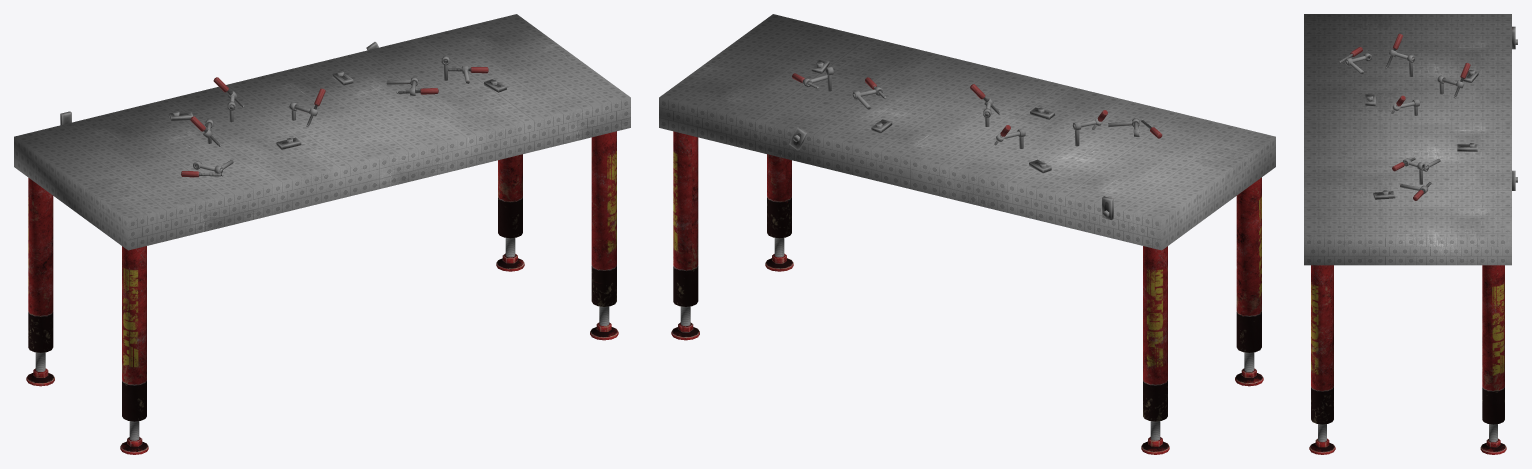
File: Mesa.fbx
3 views of the same model, side by side, from view 1: azimuth 30°, elevation 25°; view 2: azimuth 150°, elevation 25°; view 3: azimuth 270°, elevation 25° (orthographic). The views are drawn at different scales.
Visible parts, largest first — view 1: defaultMaterial; view 2: defaultMaterial; view 3: defaultMaterial.
Boxes of the visible parts, left/top/right/bottom form: defaultMaterial: left=14, top=14, right=630, bottom=454; defaultMaterial: left=659, top=14, right=1275, bottom=454; defaultMaterial: left=1304, top=14, right=1517, bottom=454.
Size of the model in its own units: 200 by 105 by 80.8.
